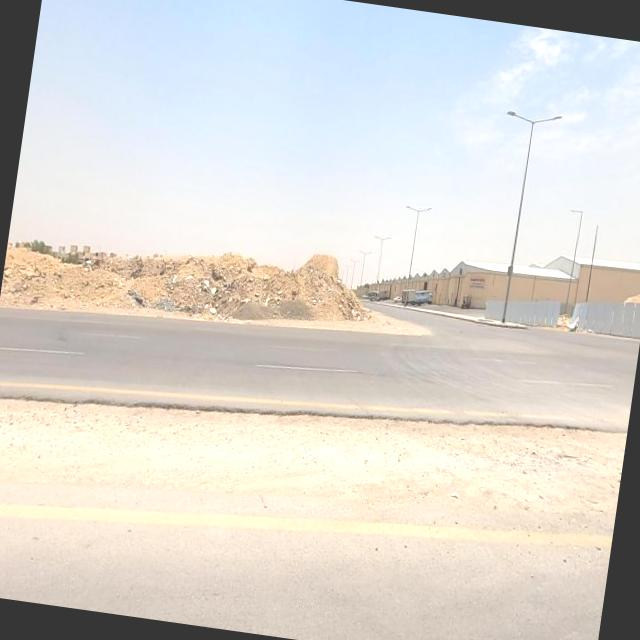debris: (82, 250, 209, 340), (159, 252, 246, 331), (318, 280, 390, 351), (540, 293, 596, 361), (250, 264, 298, 326)
